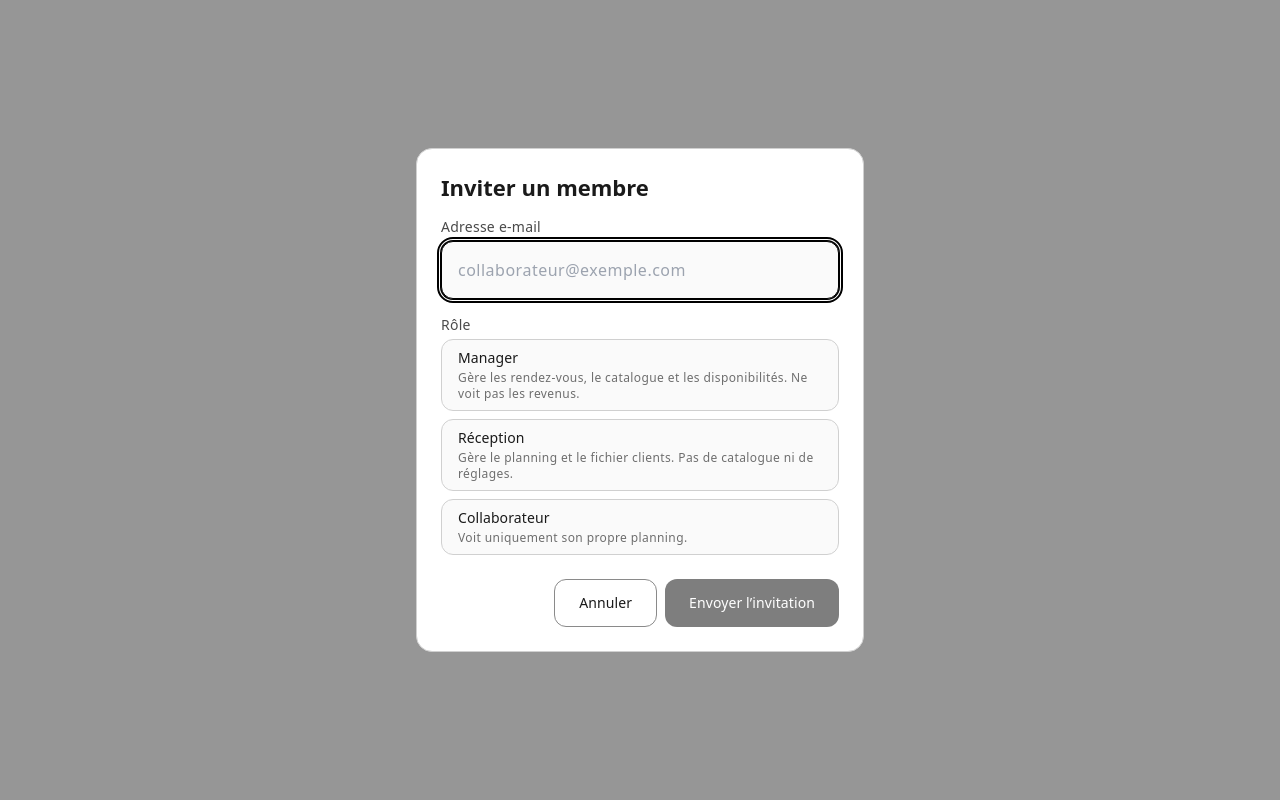
Scenario: InviteMemberDialog › member_exists → the shared French copy
Type "dup@salon.test" into the field with placeholder "collaborateur@exemple.com" at (640,270), box [441, 241, 839, 299]
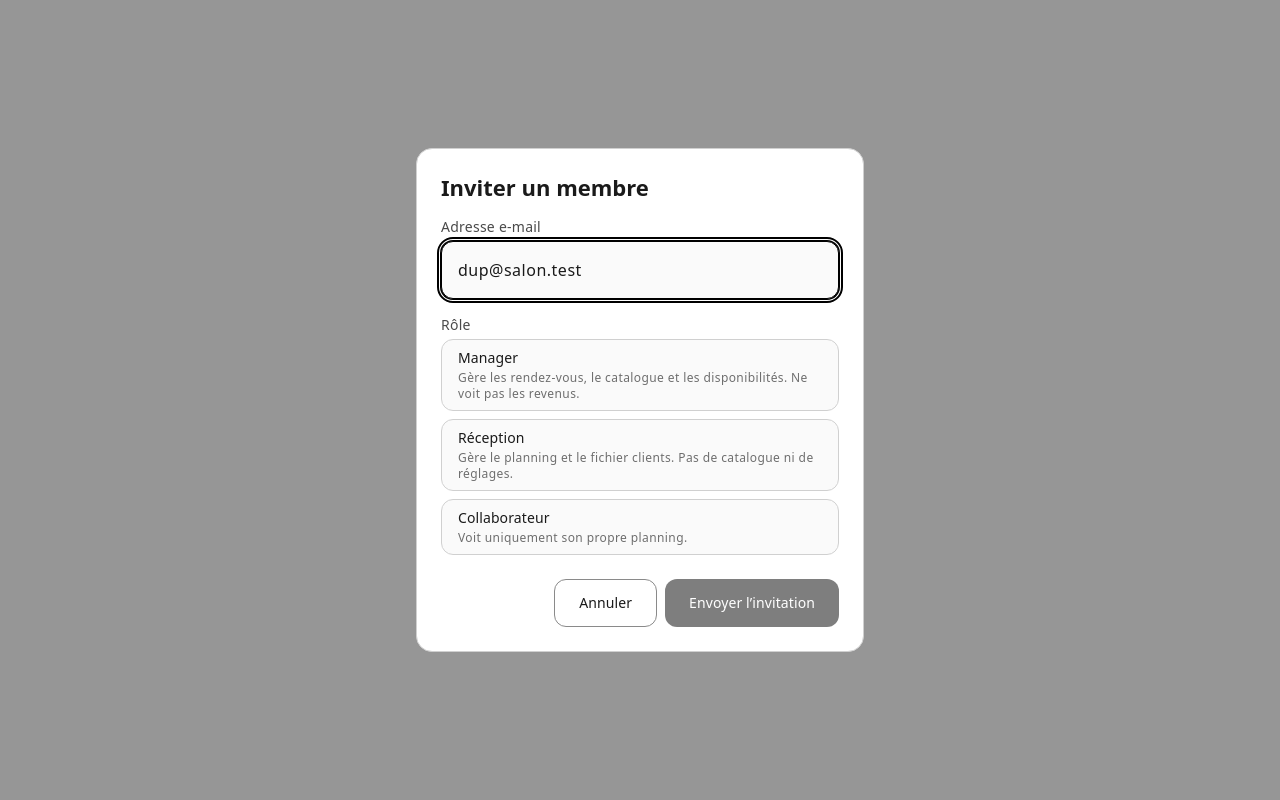
Click the button "Manager" at (640,375), box [441, 339, 839, 411]
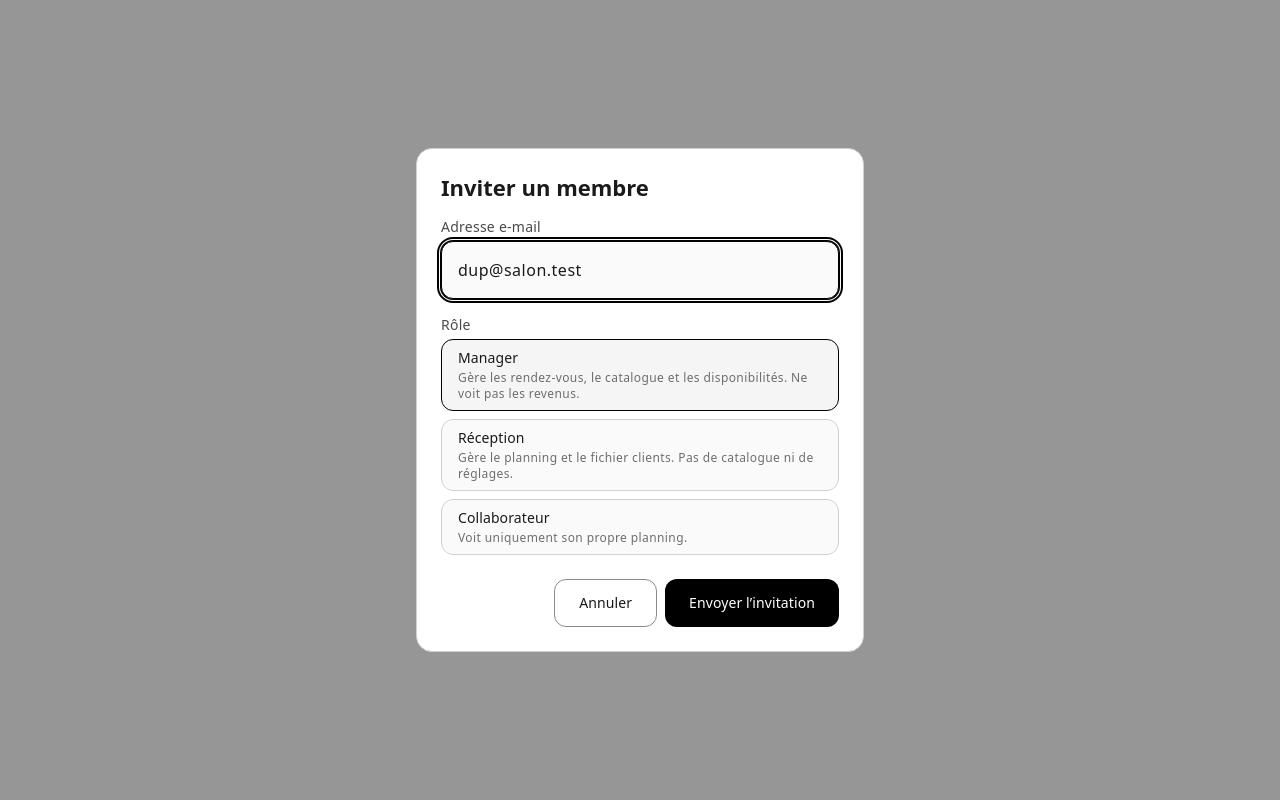
Click the button "Envoyer l’invitation" at (752,603), box [665, 579, 839, 627]
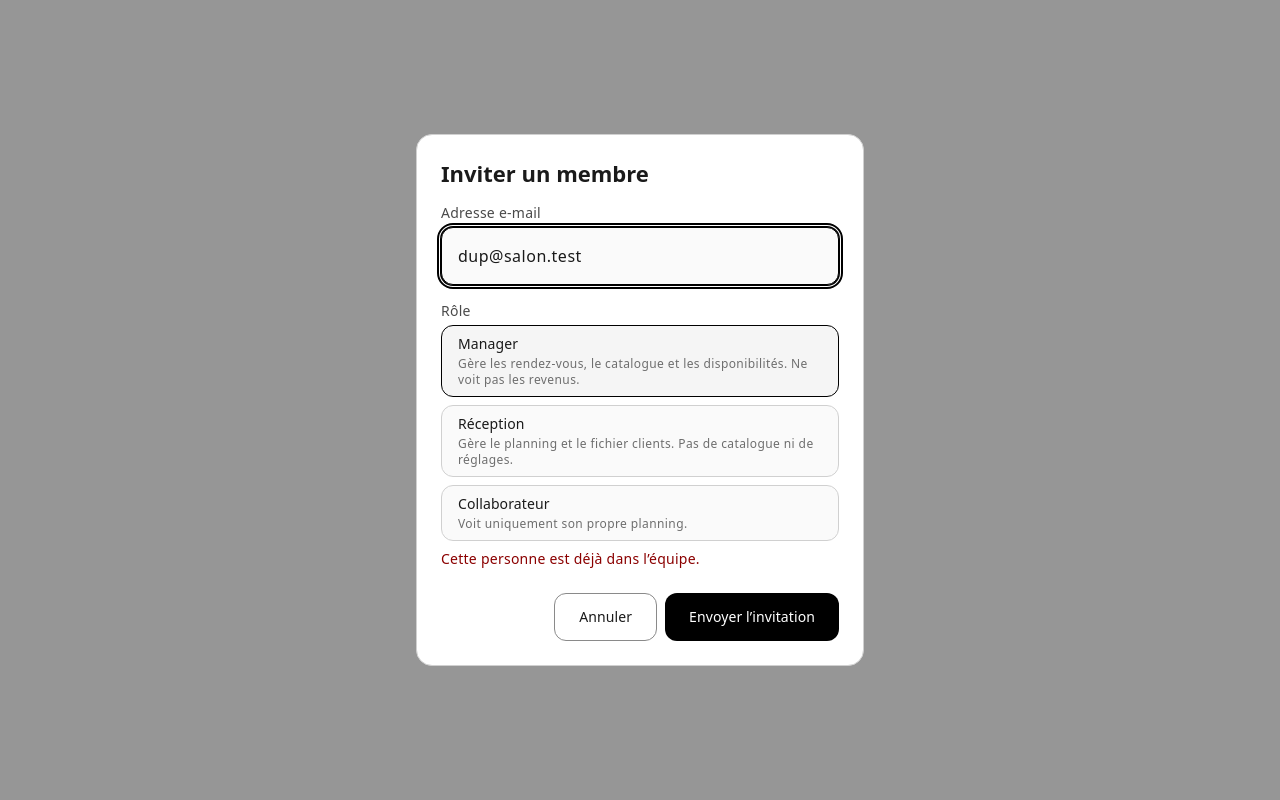
Expected: the text "Cette personne est déjà dans l’équipe." is shown, [441, 549, 700, 568]
